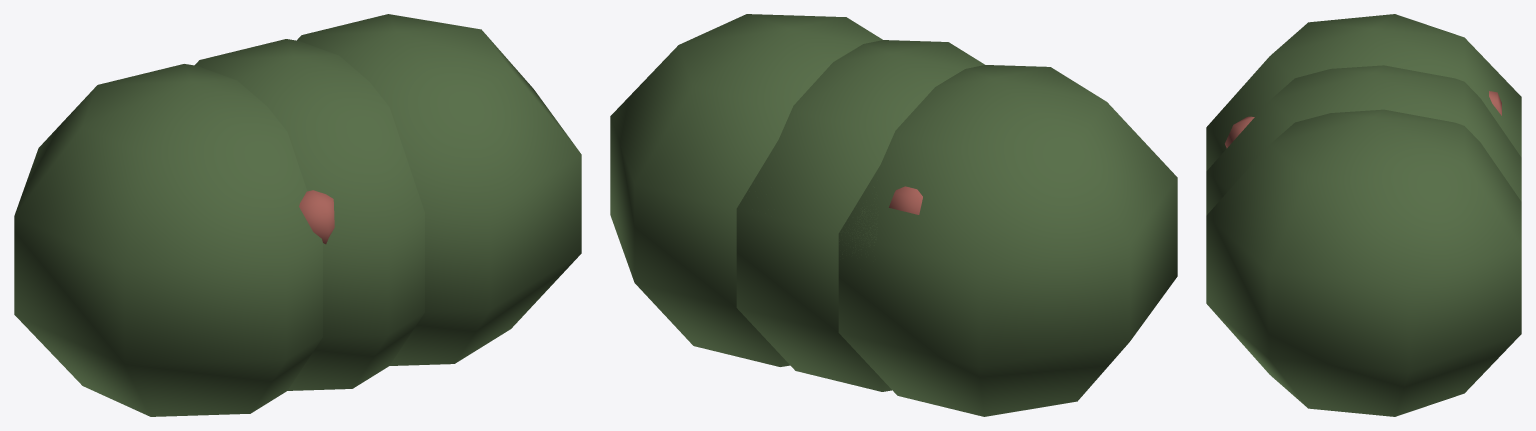
Rendered from Nature_BerryBush_Fruiting.glb.
3 renders of one model, left to right at view 1: azimuth 30°, elevation 25°; view 2: azimuth 150°, elevation 25°; view 3: azimuth 270°, elevation 25°, orthographic. The views are drawn at different scales.
Parts seen in each view (by area): view 1: _MeshInstance3D_1108, _MeshInstance3D_1110, _MeshInstance3D_1109, _MeshInstance3D_1117; view 2: _MeshInstance3D_1108, _MeshInstance3D_1110, _MeshInstance3D_1109, _MeshInstance3D_1118; view 3: _MeshInstance3D_1110, _MeshInstance3D_1108, _MeshInstance3D_1109, _MeshInstance3D_1117.
Part boxes in pixels (x1,y1,x2,y2): _MeshInstance3D_1108: (14, 64, 322, 416); _MeshInstance3D_1110: (297, 14, 581, 365); _MeshInstance3D_1109: (194, 39, 424, 390); _MeshInstance3D_1117: (299, 190, 334, 244); _MeshInstance3D_1108: (838, 65, 1177, 416); _MeshInstance3D_1110: (610, 14, 882, 366); _MeshInstance3D_1109: (736, 40, 984, 391); _MeshInstance3D_1118: (889, 186, 922, 214); _MeshInstance3D_1110: (1206, 109, 1521, 416); _MeshInstance3D_1108: (1206, 14, 1521, 170); _MeshInstance3D_1109: (1206, 65, 1521, 215); _MeshInstance3D_1117: (1225, 116, 1254, 148).
Size of the model in its own units: 1.53 by 0.9 by 0.904.
